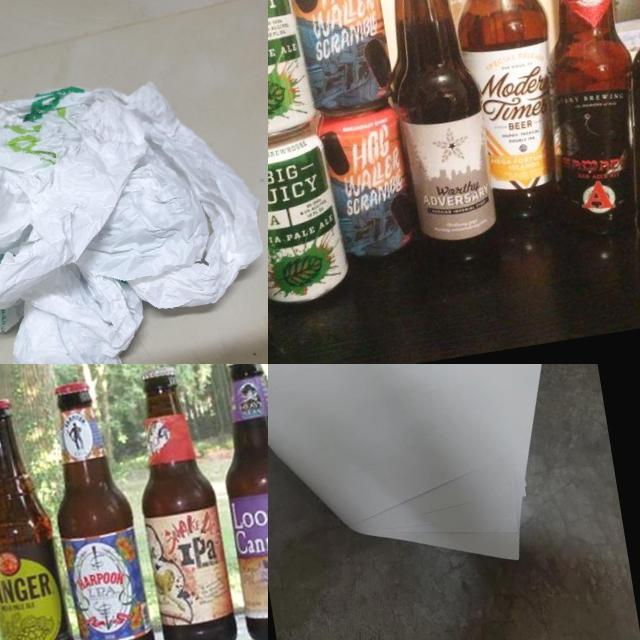garrafa de vidro: (372, 0, 504, 256), (120, 364, 241, 640), (36, 374, 159, 640), (434, 0, 577, 227), (523, 0, 640, 242), (0, 393, 81, 640), (205, 364, 268, 640), (590, 0, 640, 266)
lata: (281, 0, 398, 118), (268, 0, 318, 153)
papel: (268, 364, 600, 597)
sacola plástica: (0, 44, 268, 364)
